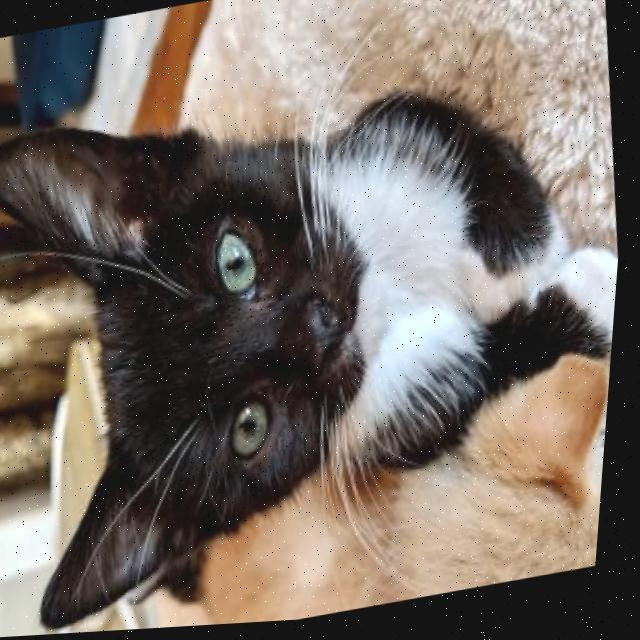Tuxedo: (0, 27, 637, 640)
